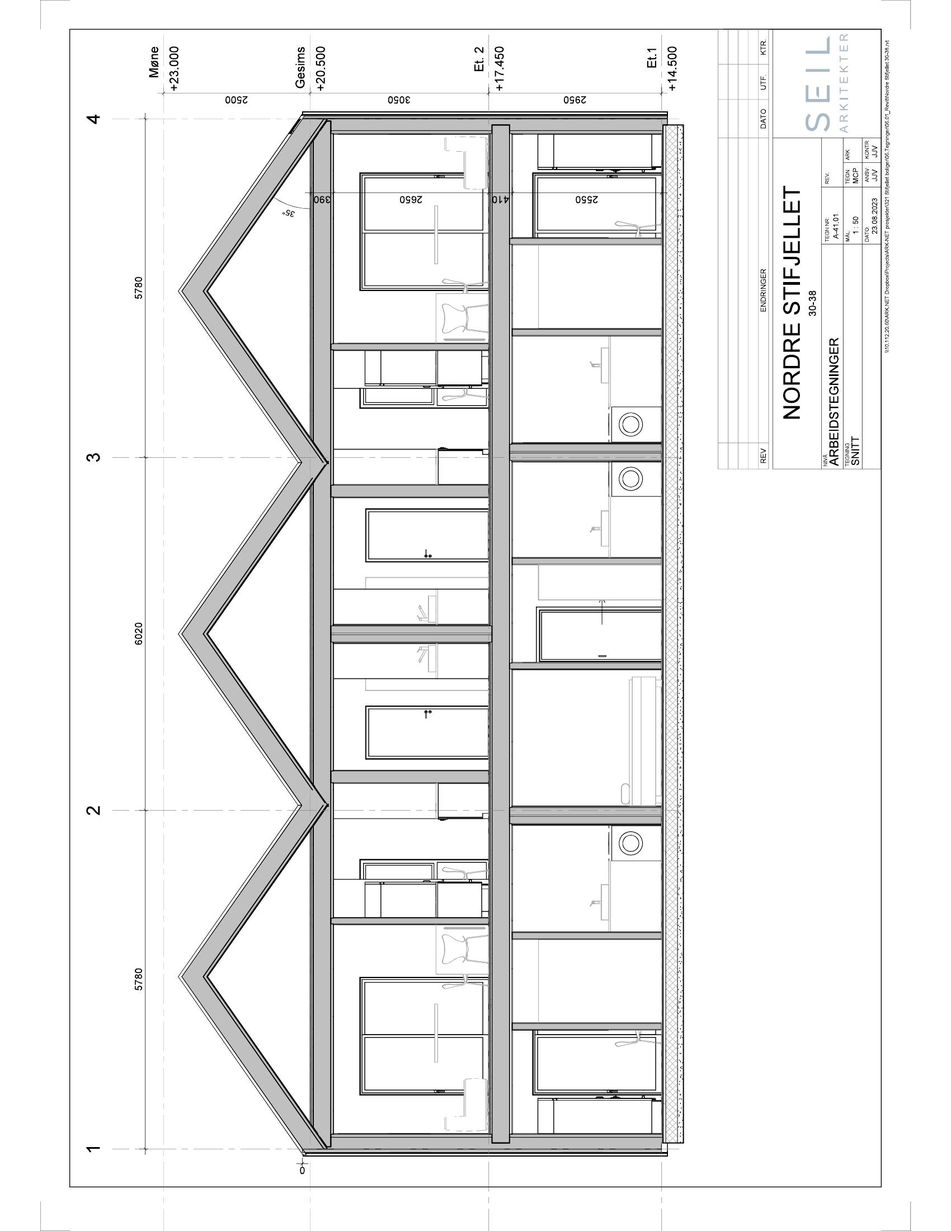snitt: (171, 110, 702, 1168)
tekst: (851, 211, 861, 241)
